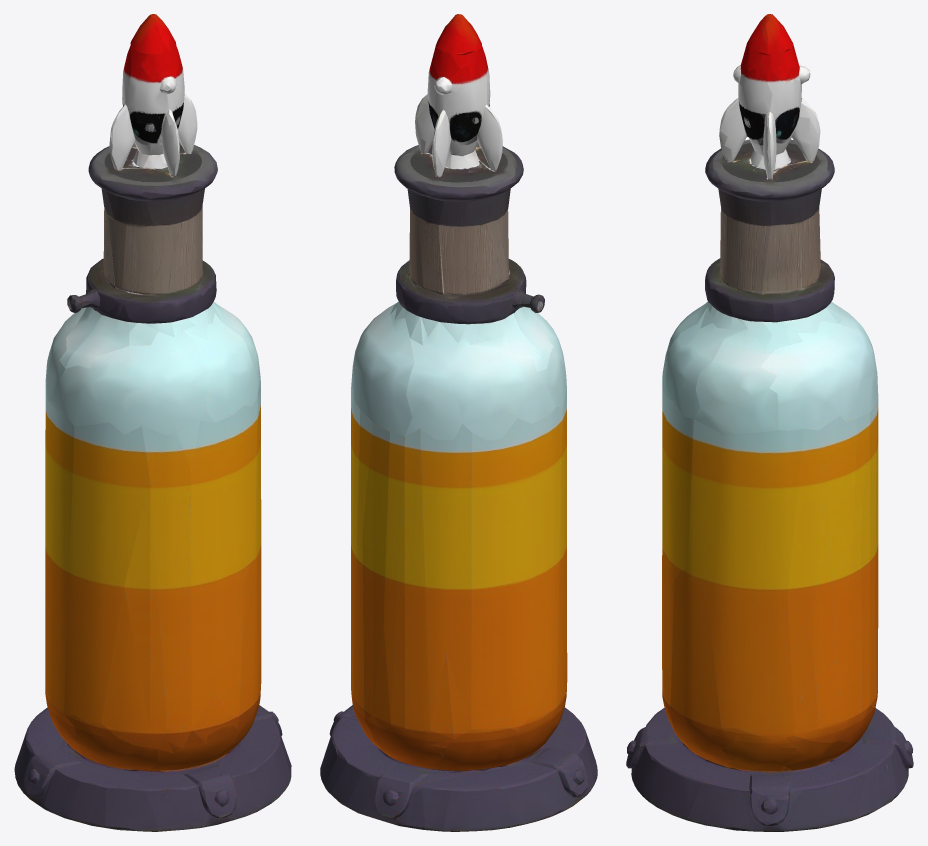
File: powerup-fuel.glb
3 views of the same model, side by side, from view 1: azimuth 30°, elevation 25°; view 2: azimuth 150°, elevation 25°; view 3: azimuth 270°, elevation 25° (orthographic).
Bounding box in the file's own units: 0.6514 × 1.9 × 0.6516.
Materials: 1 (1 with a texture image).
